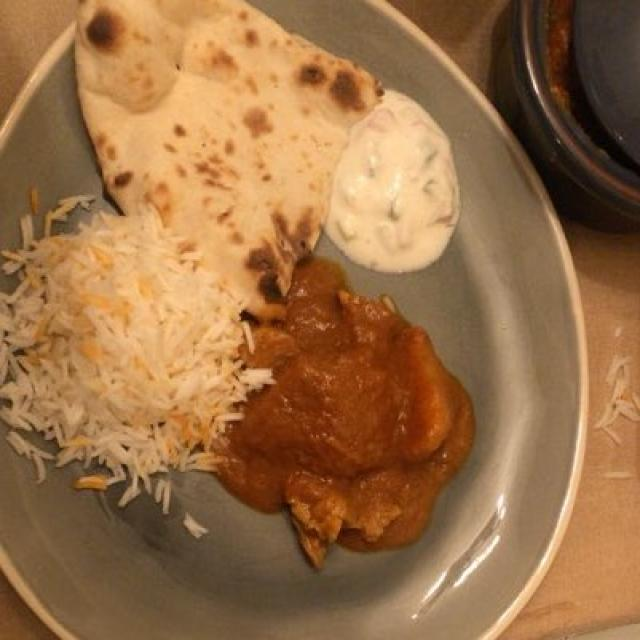naan-indien-bread: (74, 2, 390, 314)
rice-basmati: (9, 209, 258, 512)
yaourt-yahourt-yogourt-ou-yoghourt-natural: (326, 97, 457, 271)
